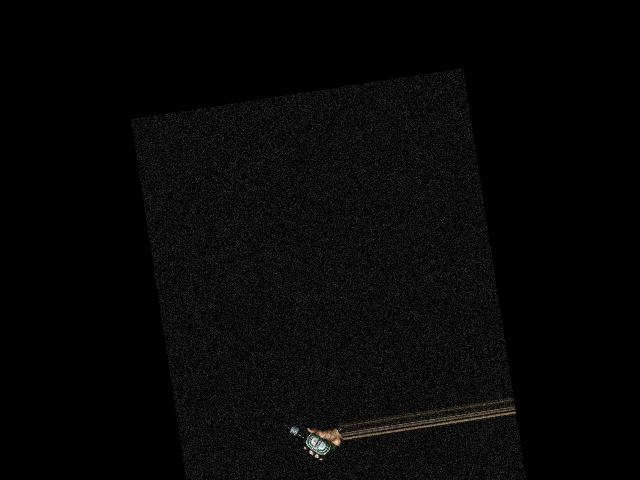beer: (282, 414, 340, 466)
